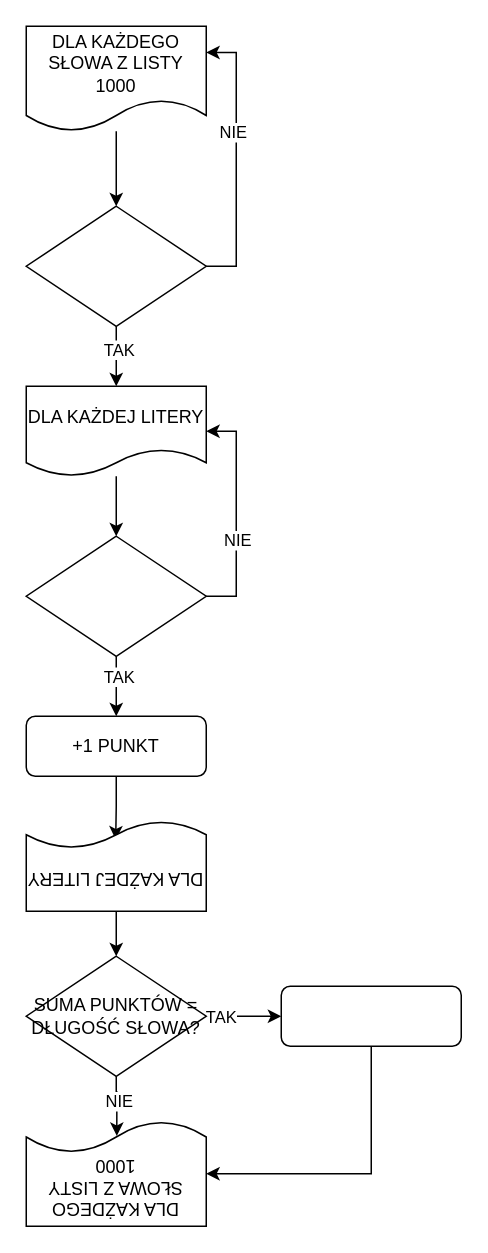
Image size: 488x1253. Some labels were removed from this diagram. Each missing label, with the centre of its shape:
"LITERY SĄ TAKIE SAME?" belongs at [115,595].
"SŁOWA MAJĄ TĘ SAMĄ DŁUGOŚĆ?" belongs at [115,265].
"x3 PUNKTACJA SŁOWA" belongs at [370,1015].
